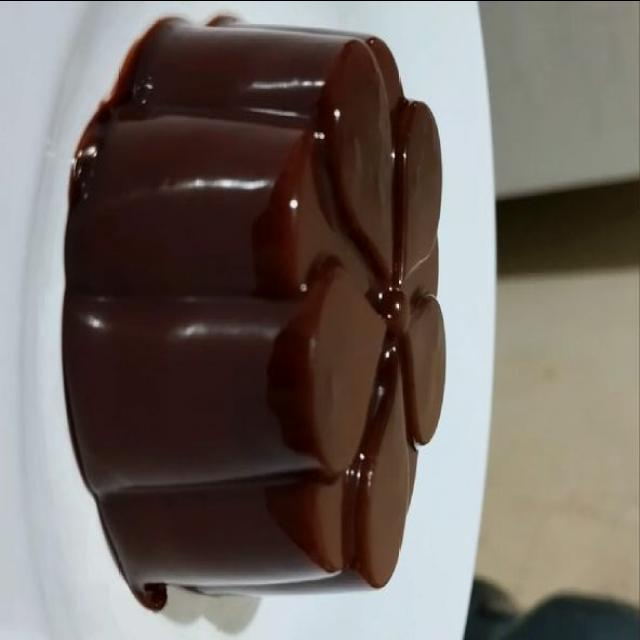puding: (62, 24, 443, 593)
